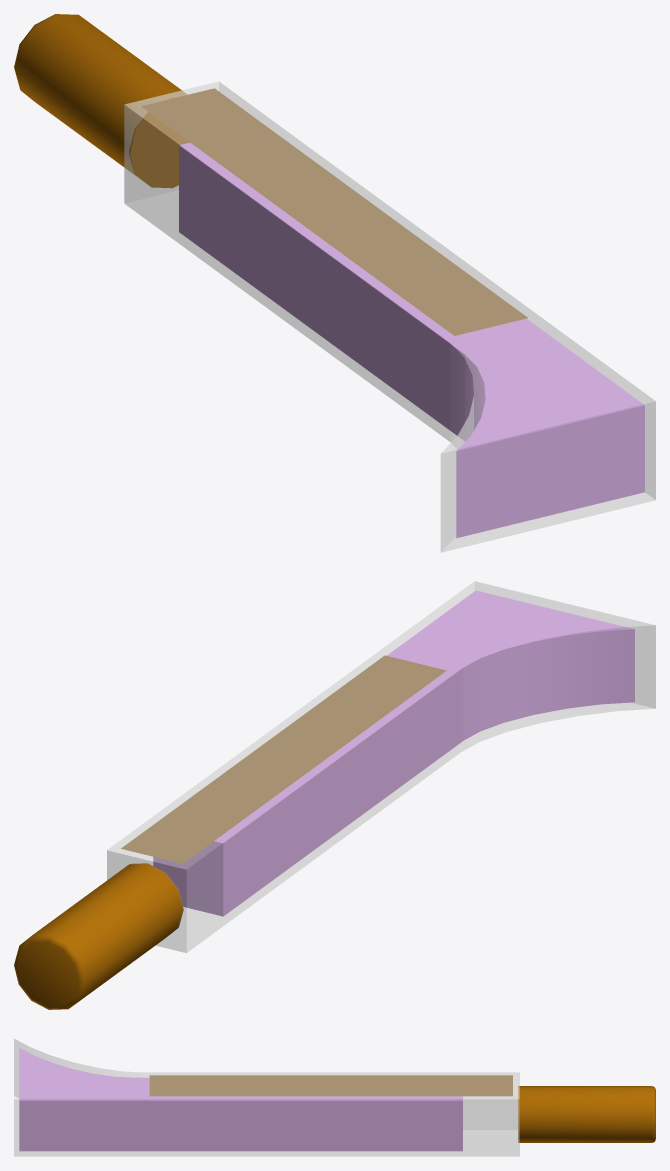
The model's file is Bottled Bollet Voenni.fbx.
The picture shows the model from 3 angles, top to bottom: view 1: azimuth 30°, elevation 25°; view 2: azimuth 150°, elevation 25°; view 3: azimuth 270°, elevation 25°; orthographic projection. The views are drawn at different scales.
Visible parts, largest first — view 1: Bottled Bollet Voenni; view 2: Bottled Bollet Voenni; view 3: Bottled Bollet Voenni.
Part boxes in pixels (<box>): Bottled Bollet Voenni: <box>14,14,655,552</box>; Bottled Bollet Voenni: <box>14,581,655,1009</box>; Bottled Bollet Voenni: <box>14,1038,655,1156</box>.
Bounding box in the file's own units: 14.49 × 6.37 × 64.59.
